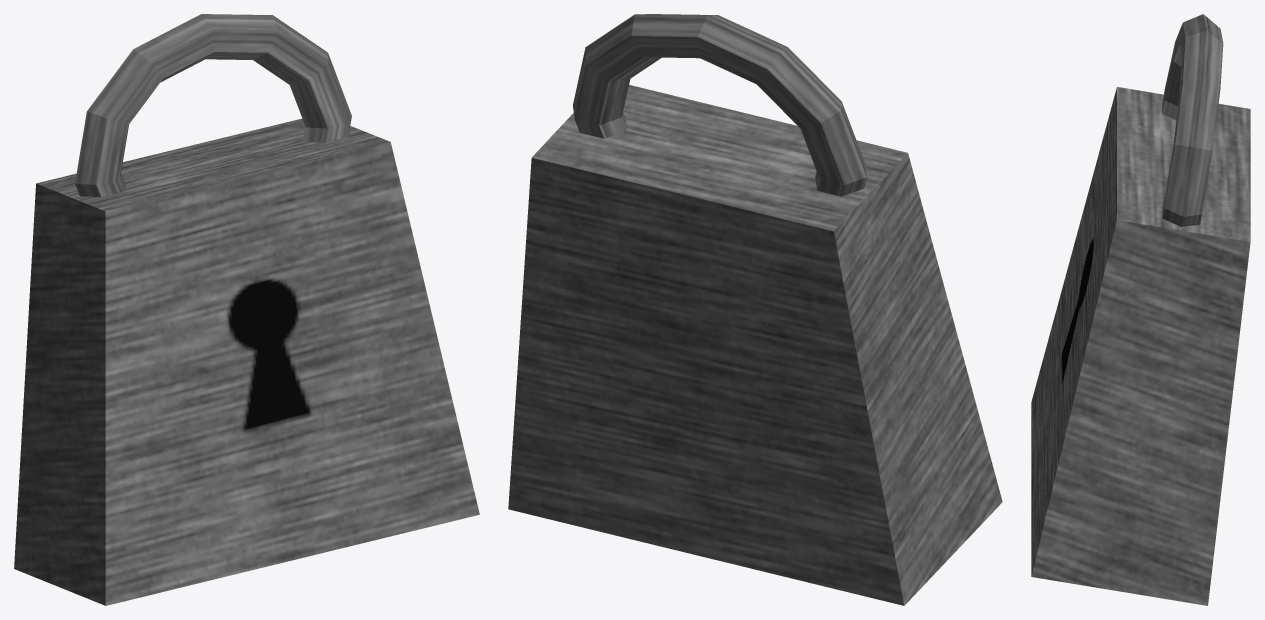
Rendered from Lock.fbx.
3 renders of one model, left to right at view 1: azimuth 30°, elevation 25°; view 2: azimuth 150°, elevation 25°; view 3: azimuth 270°, elevation 25°, orthographic. The views are drawn at different scales.
Visible parts, largest first — view 1: Lock_Base, Lock_Latch; view 2: Lock_Base, Lock_Latch; view 3: Lock_Base, Lock_Latch.
Part boxes in pixels (left/top/right/bottom): Lock_Base: left=14, top=118, right=479, bottom=605; Lock_Latch: left=75, top=14, right=351, bottom=197; Lock_Base: left=508, top=85, right=1002, bottom=605; Lock_Latch: left=573, top=14, right=866, bottom=196; Lock_Base: left=1031, top=87, right=1250, bottom=605; Lock_Latch: left=1162, top=14, right=1223, bottom=226.
Size of the model in its own units: 0.7869 by 1.02 by 0.4167.
